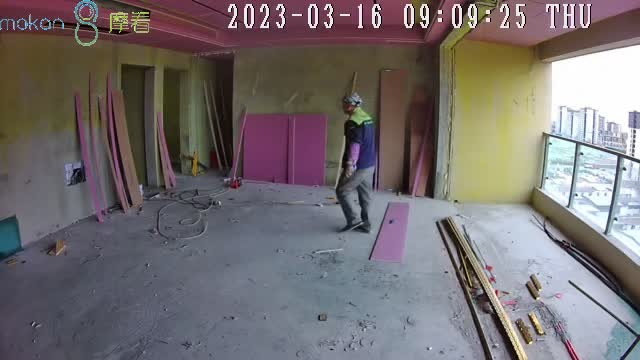people: (336, 93, 377, 231)
window: (541, 132, 640, 260), (548, 45, 640, 158)
